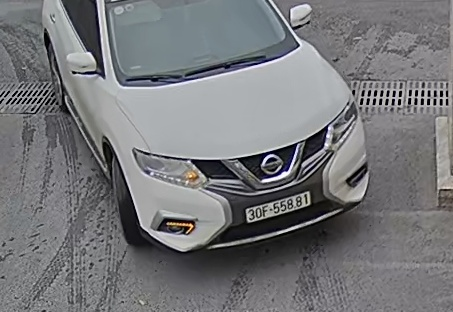vehicle plate: (244, 190, 315, 224)
